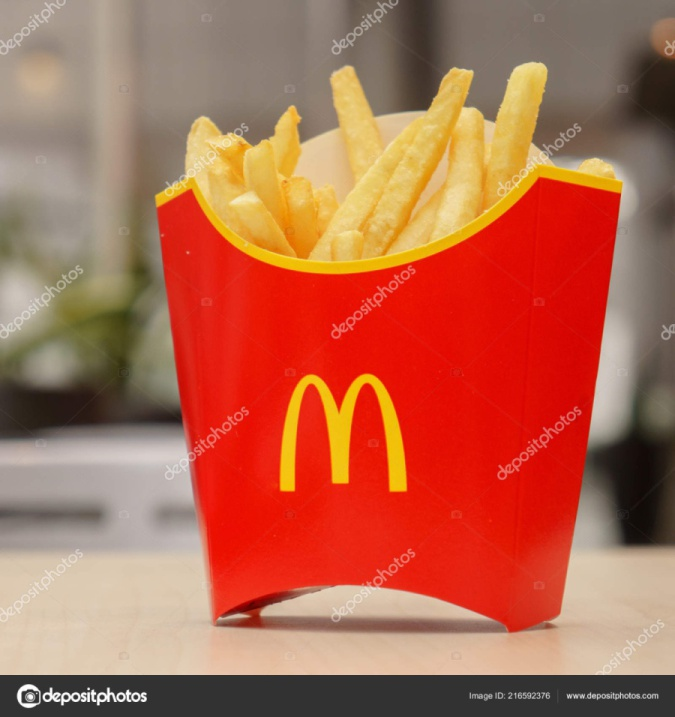mcdonalds: (273, 359, 417, 509)
